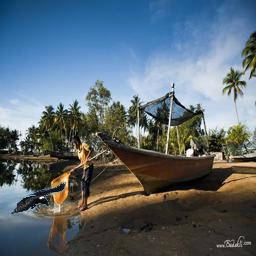Crow: (9, 181, 66, 214)
